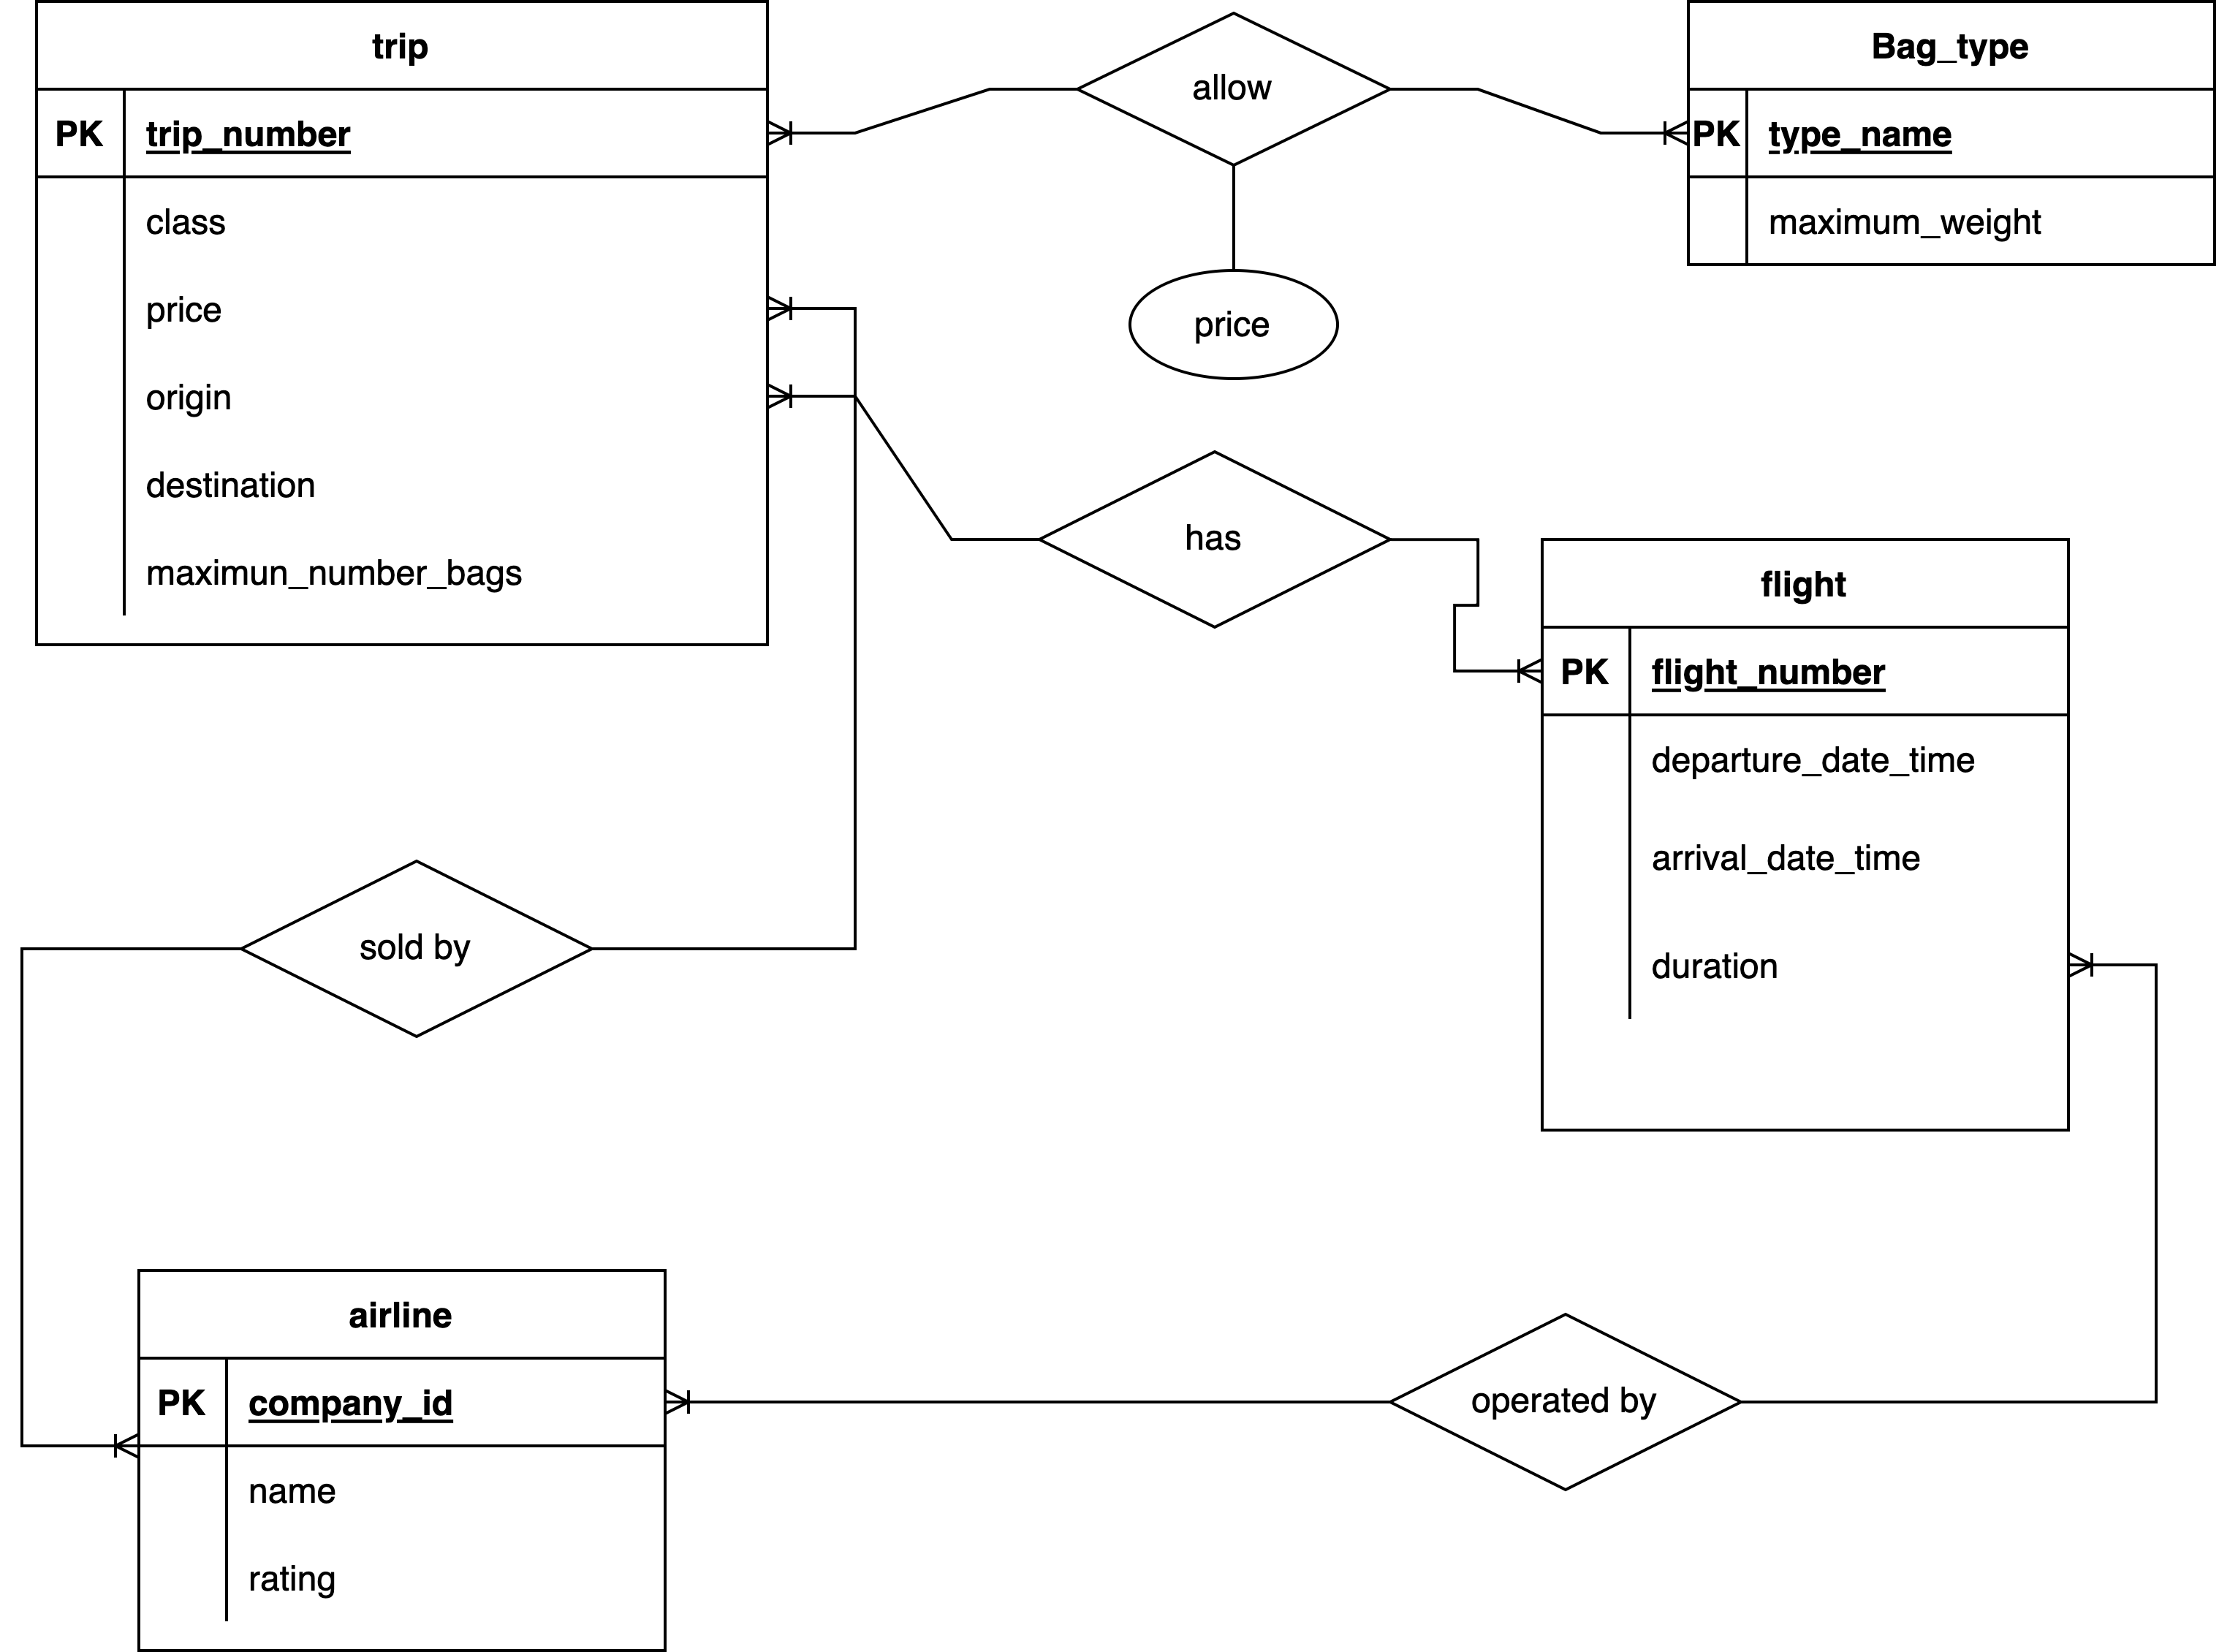entity: (33, 5, 767, 644), (1542, 540, 2068, 1130), (139, 1268, 664, 1652), (1690, 0, 2216, 262)
many: (664, 1357, 737, 1444), (763, 370, 850, 425), (767, 99, 840, 161), (767, 283, 841, 338), (78, 1409, 139, 1468), (1620, 104, 1686, 154), (1476, 640, 1541, 691), (2068, 939, 2124, 987)
rel: (1036, 444, 1400, 635), (1386, 1308, 1745, 1494), (243, 862, 595, 1034), (1076, 9, 1397, 165)
rel_attr: (1128, 267, 1345, 380)
